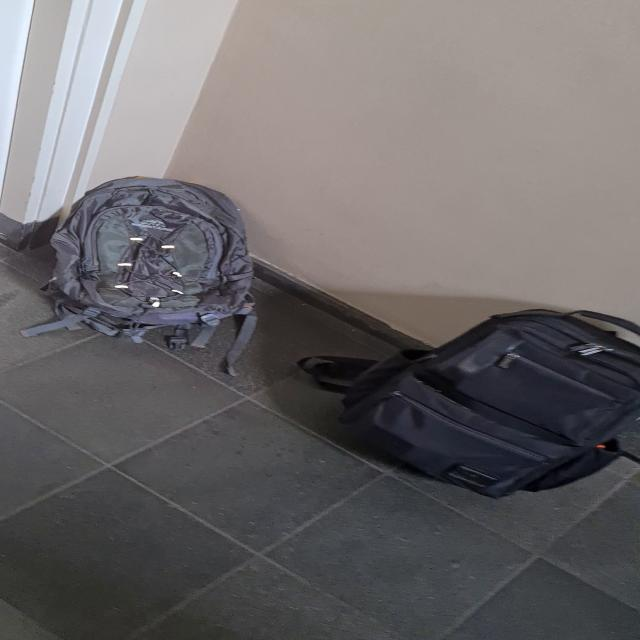backpack: (330, 301, 640, 501), (29, 172, 268, 345)
